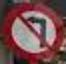Cam re: (3, 2, 64, 59)
